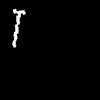half_double_crochet: (13, 9, 24, 46)
